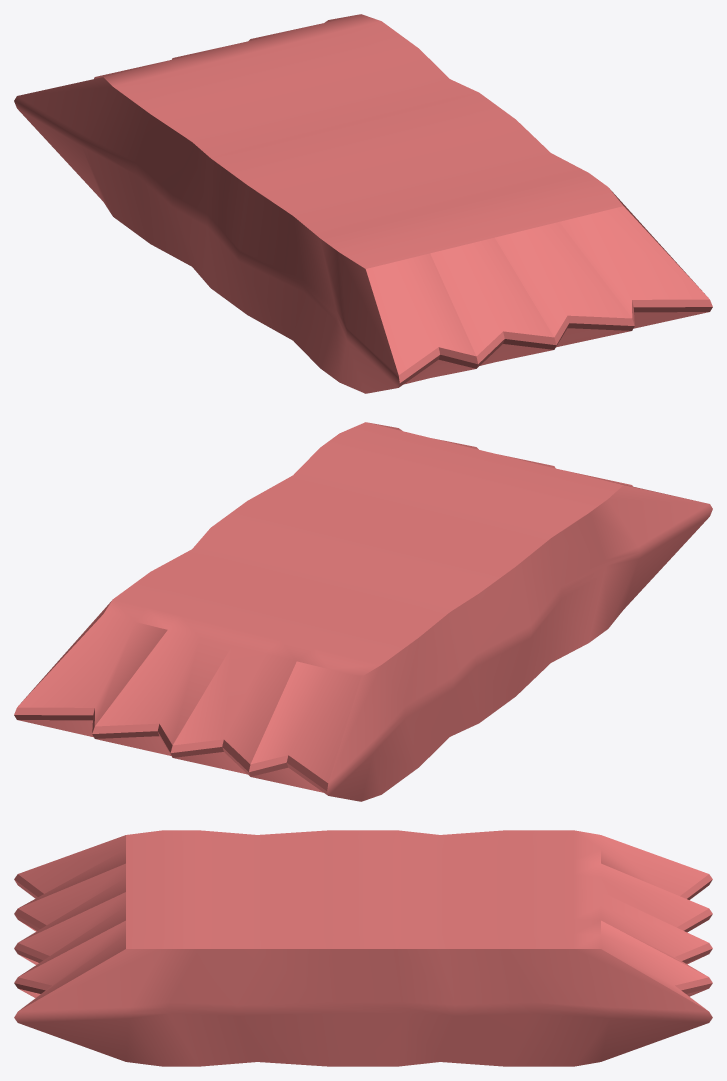
File: candyBar_low.fbx
3 views of the same model, one above another, from view 1: azimuth 30°, elevation 25°; view 2: azimuth 150°, elevation 25°; view 3: azimuth 270°, elevation 25° (orthographic). The views are drawn at different scales.
Visible parts, largest first — view 1: CandyBlock_low; view 2: CandyBlock_low; view 3: CandyBlock_low.
Part boxes in pixels (box(x1,y1,x2,y2)): CandyBlock_low: box(14, 14, 712, 393); CandyBlock_low: box(14, 422, 712, 801); CandyBlock_low: box(14, 830, 712, 1066).
Size of the model in its own units: 0.101 by 0.04 by 0.2155.
